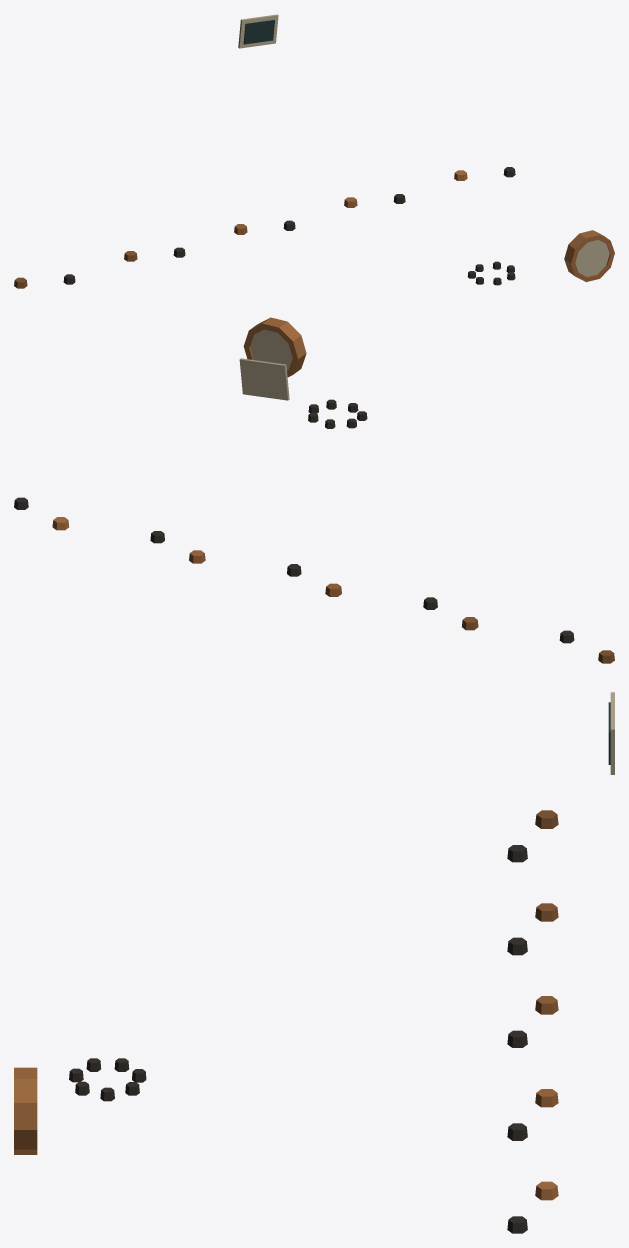
File: camp_moss_stall_detail2.glb
3 views of the same model, one above another, from view 1: azimuth 30°, elevation 25°; view 2: azimuth 150°, elevation 25°; view 3: azimuth 270°, elevation 25° (orthographic). The views are drawn at different scales.
Visible parts, largest first — view 1: Body; view 2: Body; view 3: Body.
Boxes of the visible parts, x1=… form: Body: x1=14, y1=14, x2=614, y2=288; Body: x1=14, y1=317, x2=614, y2=663; Body: x1=14, y1=692, x2=614, y2=1233.
Bounding box in the file's own units: 6.68 × 2.52 × 4.1.
